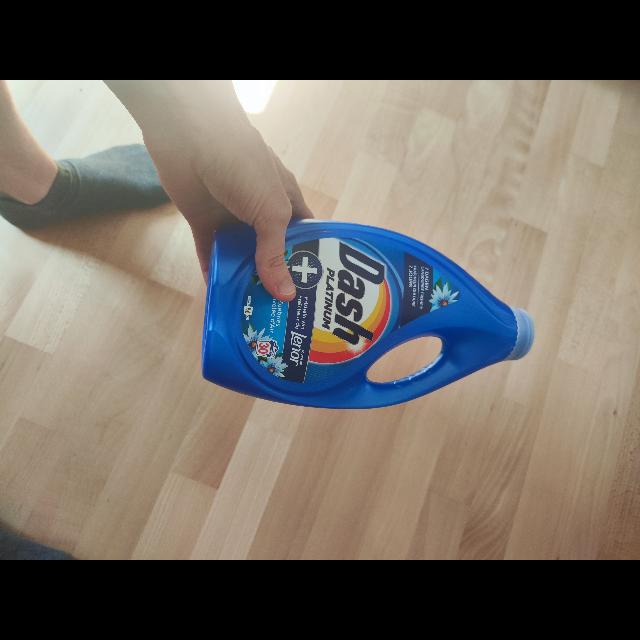Plastic: (206, 216, 536, 410)
